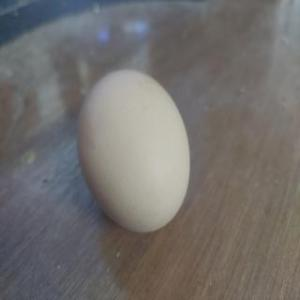egg: (75, 68, 195, 234)
